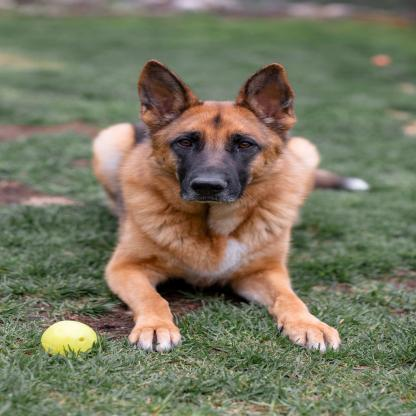dog: (86, 59, 367, 358)
